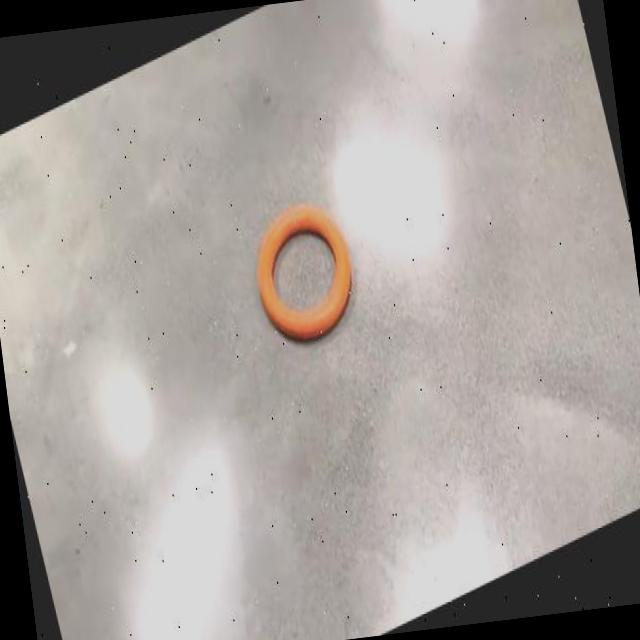note: (257, 203, 351, 338)
